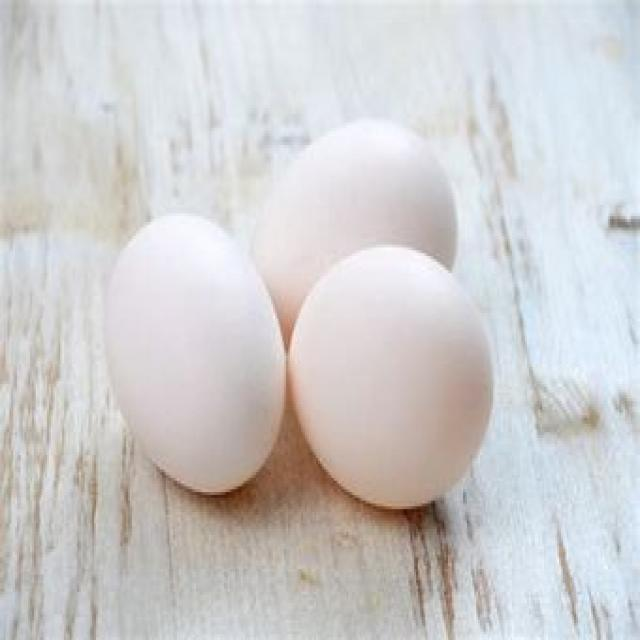Egg: (94, 174, 294, 516), (286, 228, 497, 546)
